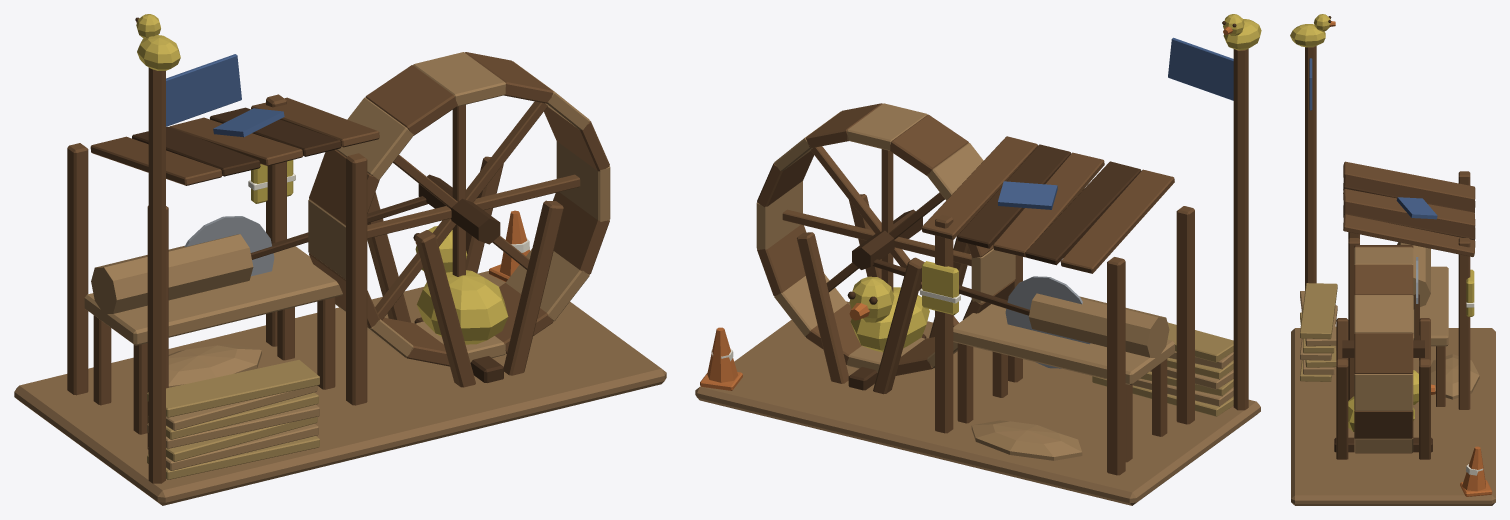
Rendered from woodcutter_l3.fbx.
3 renders of one model, left to right at view 1: azimuth 30°, elevation 25°; view 2: azimuth 150°, elevation 25°; view 3: azimuth 270°, elevation 25°, orthographic. The views are drawn at different scales.
Visible parts, largest first — view 1: Building; view 2: Building; view 3: Building.
Part boxes in pixels (x1,y1,x2,y2): Building: [14, 14, 666, 505]; Building: [695, 14, 1261, 505]; Building: [1290, 14, 1495, 505].
Size of the model in its own units: 2.08 by 1.05 by 1.84.
